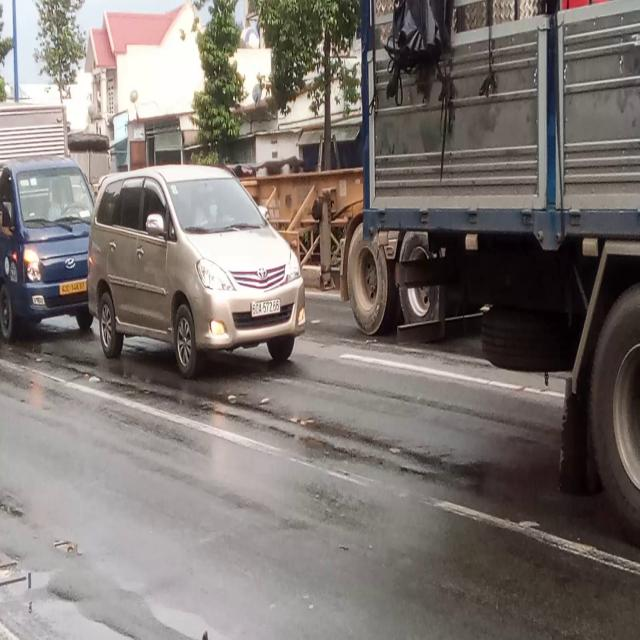bien_trang: (246, 298, 284, 322)
bien_vang: (57, 280, 86, 300)
